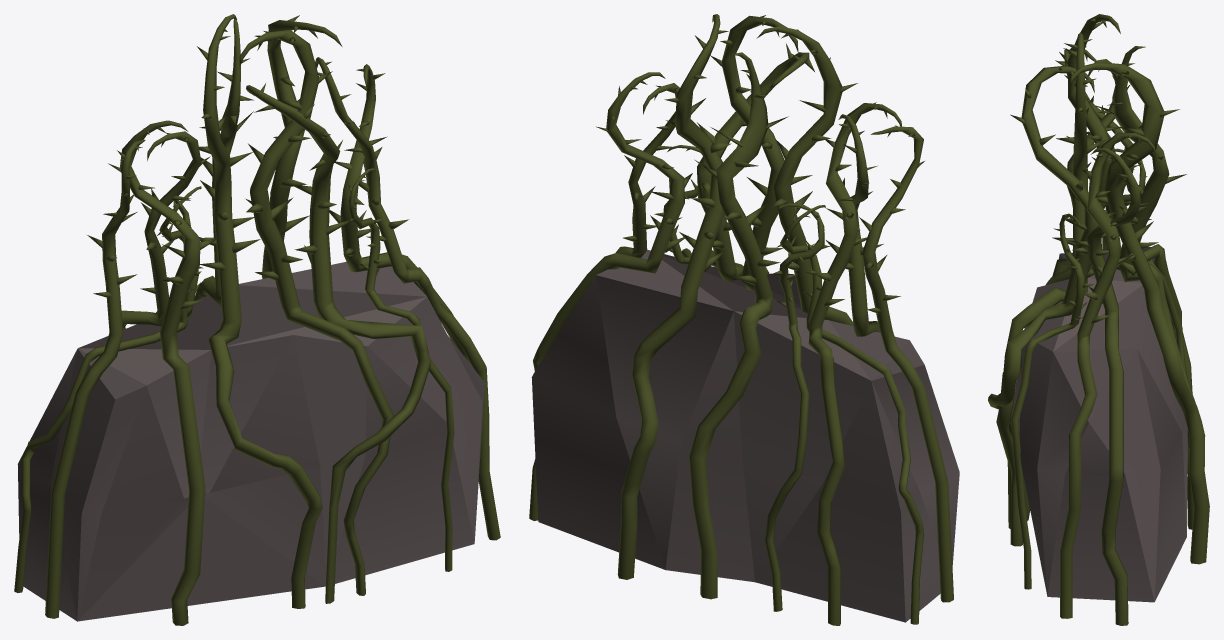
Rendered from model-rockwithThorns.fbx.
The picture shows the model from 3 angles, left to right: view 1: azimuth 30°, elevation 25°; view 2: azimuth 150°, elevation 25°; view 3: azimuth 270°, elevation 25°; orthographic projection. The views are drawn at different scales.
Visible parts, largest first — view 1: polySurface59; view 2: polySurface59; view 3: polySurface59.
Part boxes in pixels (x1=…): polySurface59: x1=14, y1=14, x2=500, y2=625; polySurface59: x1=529, y1=14, x2=959, y2=625; polySurface59: x1=988, y1=14, x2=1209, y2=625.
Bounding box in the file's own units: 552 × 696 × 277.
